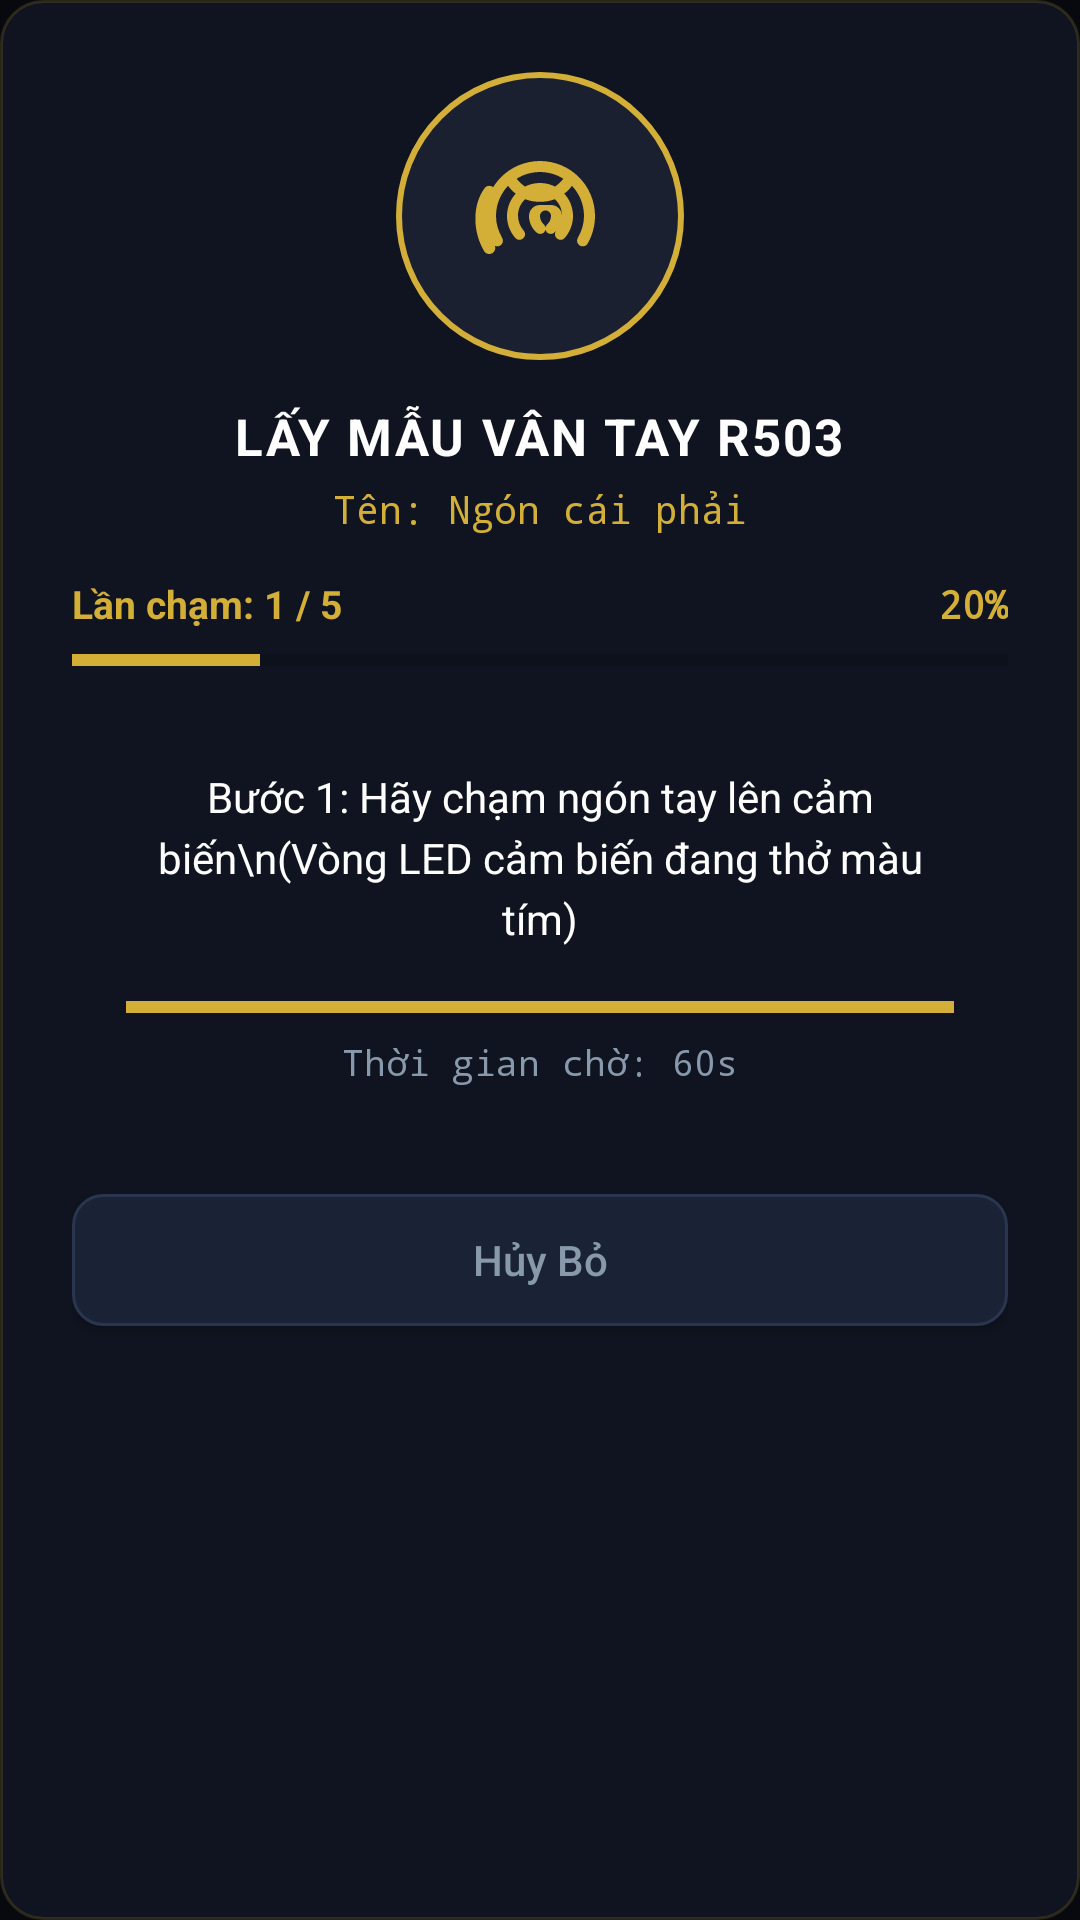

Icons on this 1080w x 1920h Android screen, each with its box as {"x1": x1, "y1": y1, "x2": x2, "y2": y2}:
fingerprint: {"x1": 475, "y1": 161, "x2": 595, "y2": 254}
